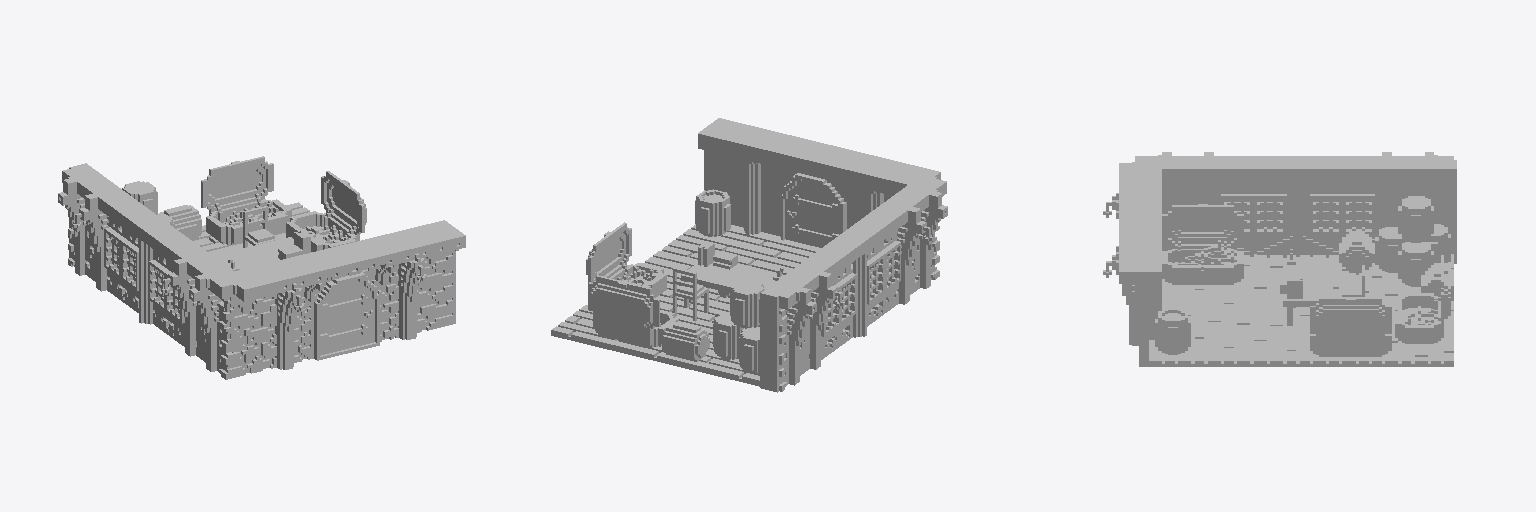
The model's file is townhall interior export 1.obj.
The picture shows the model from 3 angles: view 1: azimuth 30°, elevation 25°; view 2: azimuth 150°, elevation 25°; view 3: azimuth 270°, elevation 25°; orthographic projection.
Size of the model in its own units: 91 by 32 by 108.